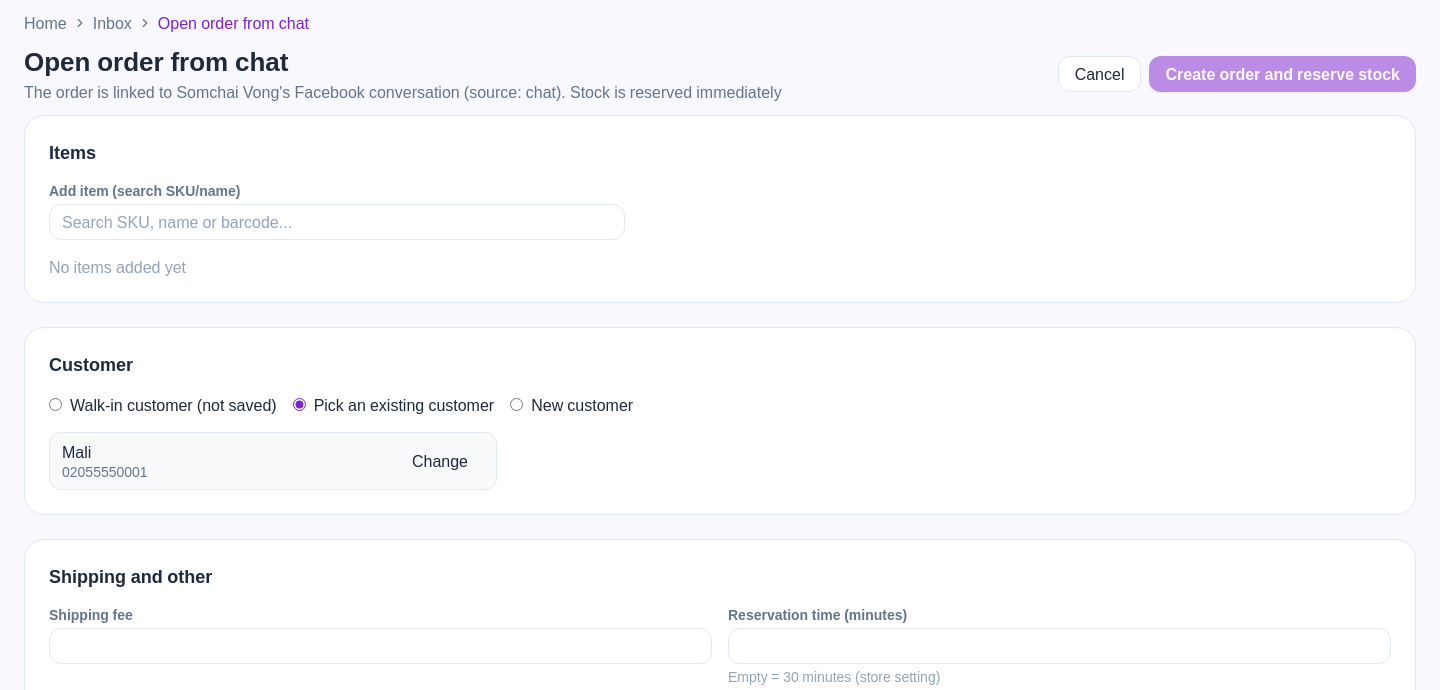
Test case: ChatOrderPage › ອອກຈາກໜ້າຂະນະສົ່ງສະຫຼຸບ: ບໍ່ push ຫຼັງ unmount ແຕ່ toast ຍັງສະແດງ
Type "tee" into the dropdown labelled "Add item (search SKU/name)".
click(337, 222); type("tee")  # box 49,204 -> 625,240
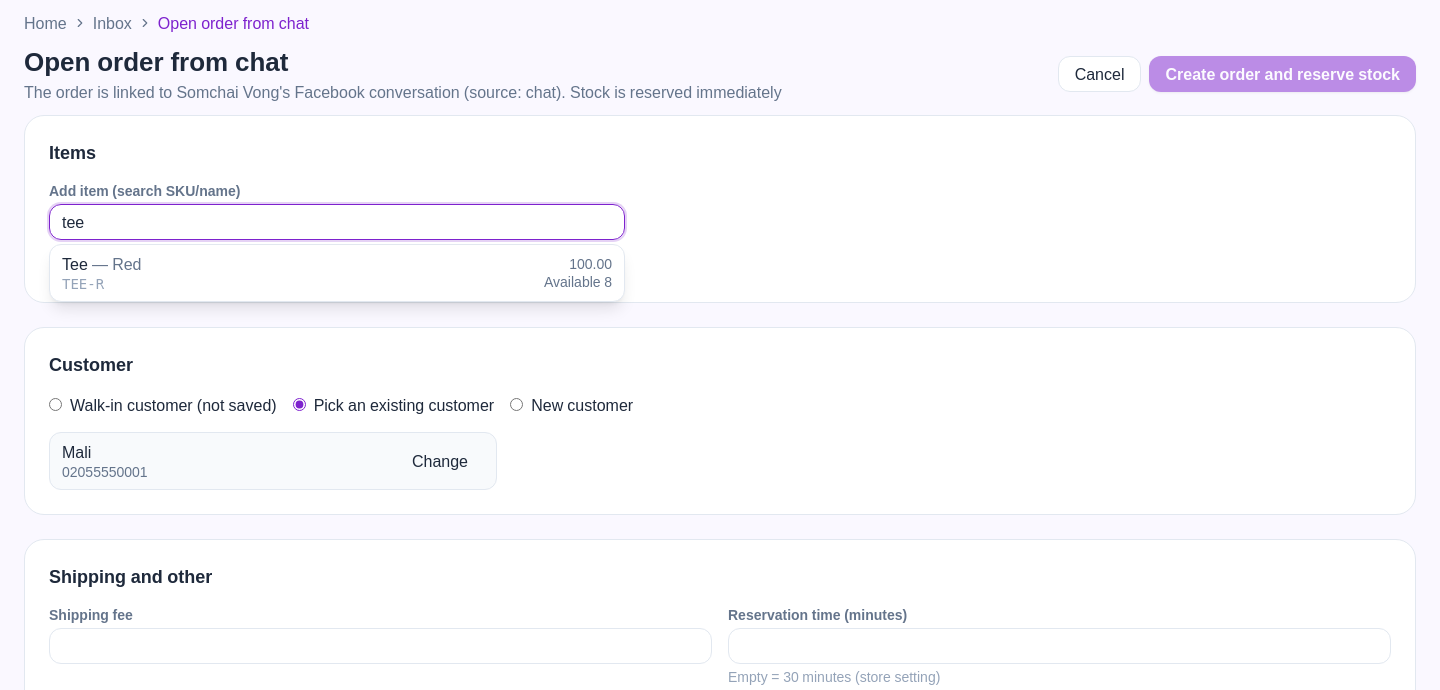
Click the option "Tee — Red TEE-R 100.00 Available 8".
click(83, 284)  # box 50,244 -> 624,300
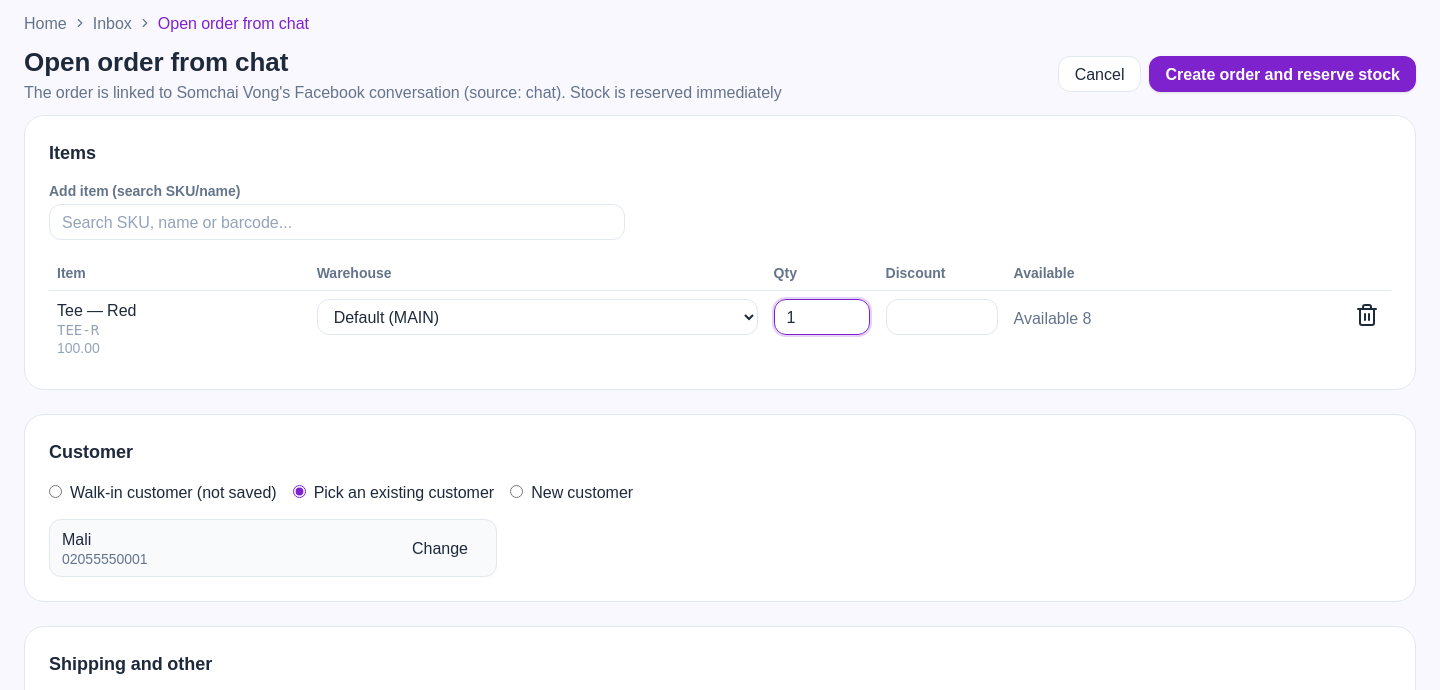
Click the button "Create order and reserve stock".
click(1283, 74)  # box 1150,56 -> 1416,92
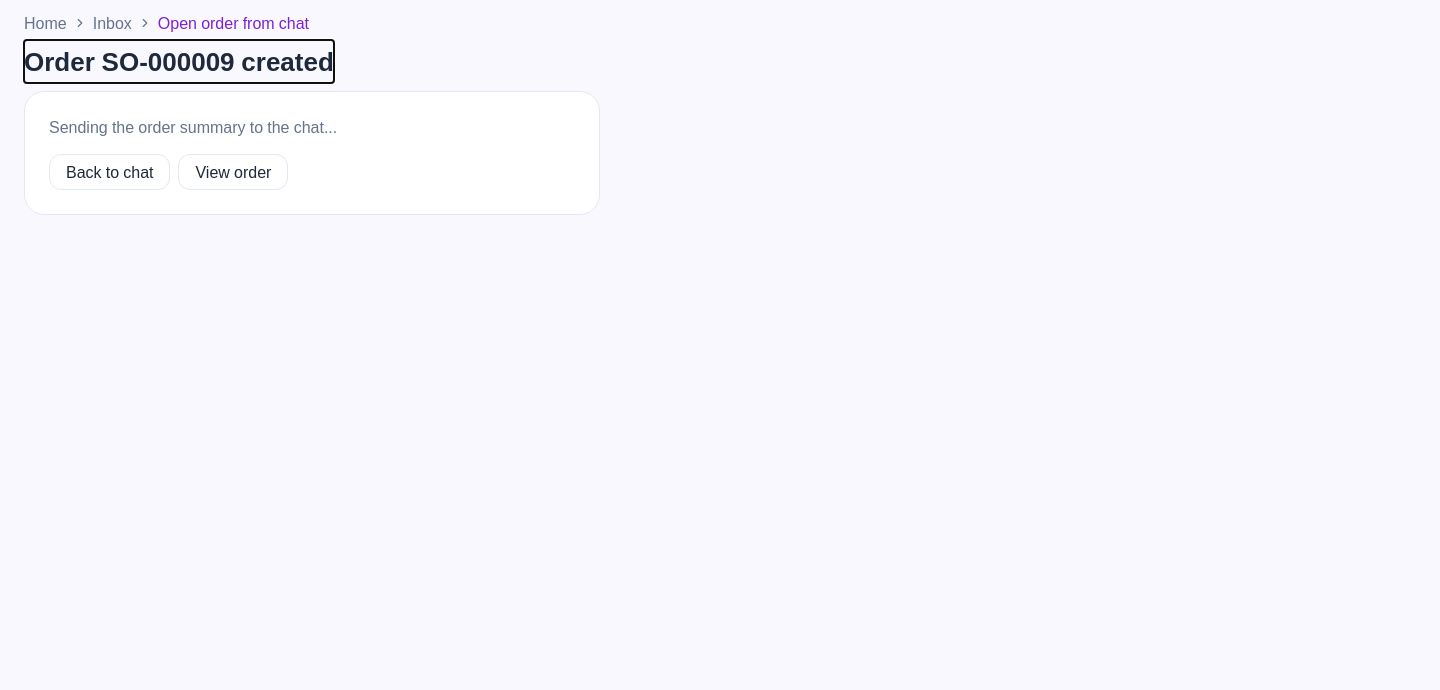
expect the message "Sending the order summary to the chat..." is shown: met, box 49,114 -> 337,140
